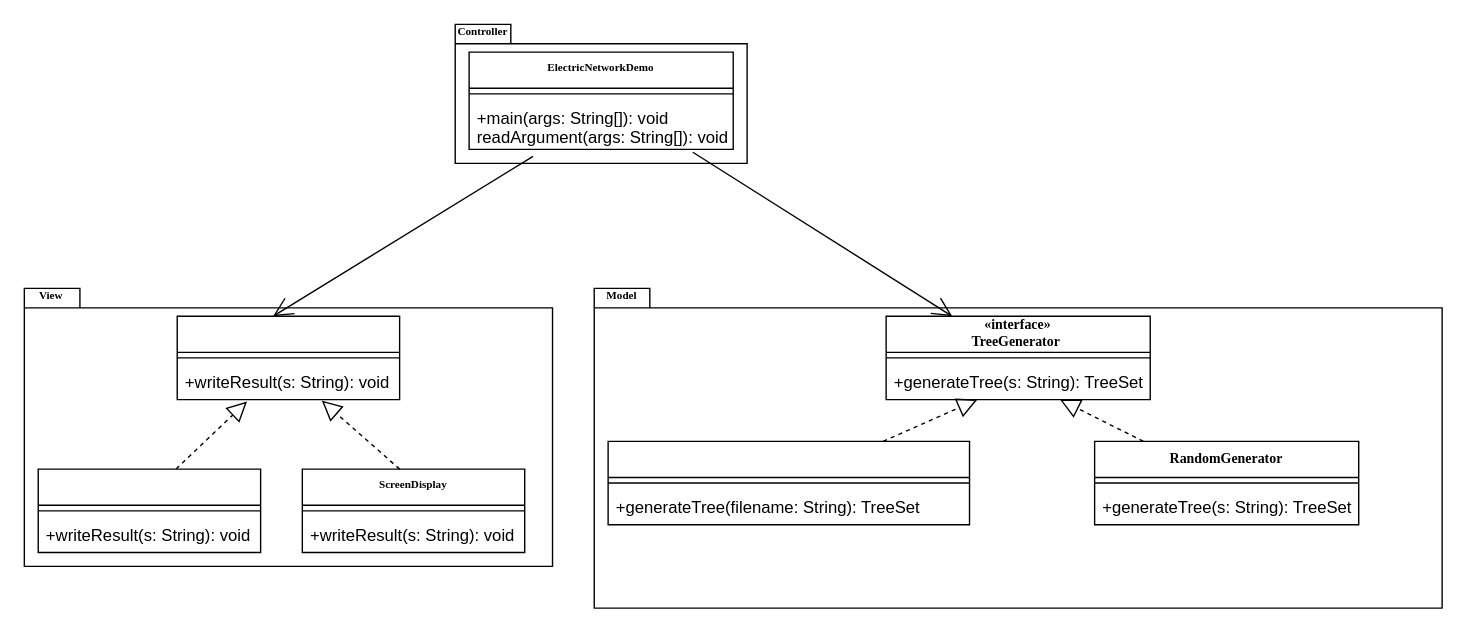
This 1466x632 diagram has some shape labels left out. The box of each missing label's shape, as (x1, y1, x2, y2) in pixels:
FileGenerator: (607, 440, 970, 525)
WriteFile: (37, 468, 261, 553)
«interface» Output: (176, 315, 400, 400)
